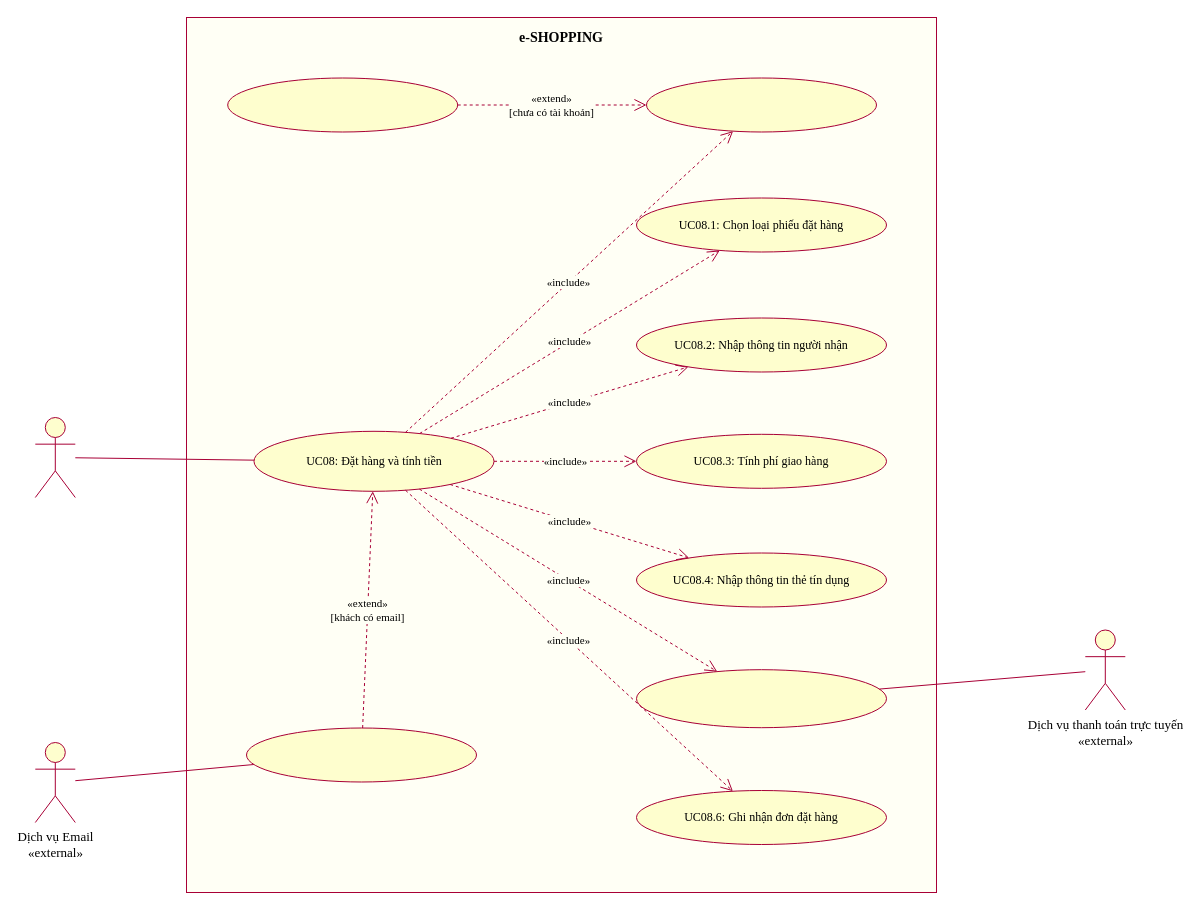
The diagram is 1200 pixels wide and 910 high, and some of its shapes have lost their labels. Each missing label, with the box of its shape:
Khách hàng: (34, 416, 75, 498)
UC01: Đăng ký tài khoản: (227, 77, 458, 132)
UC02: Đăng nhập: (646, 77, 876, 132)
UC08.5: Kiểm tra thẻ với dịch vụ thanh toán: (636, 669, 886, 728)
UC08.7: Gửi email xác nhận: (246, 727, 476, 782)
